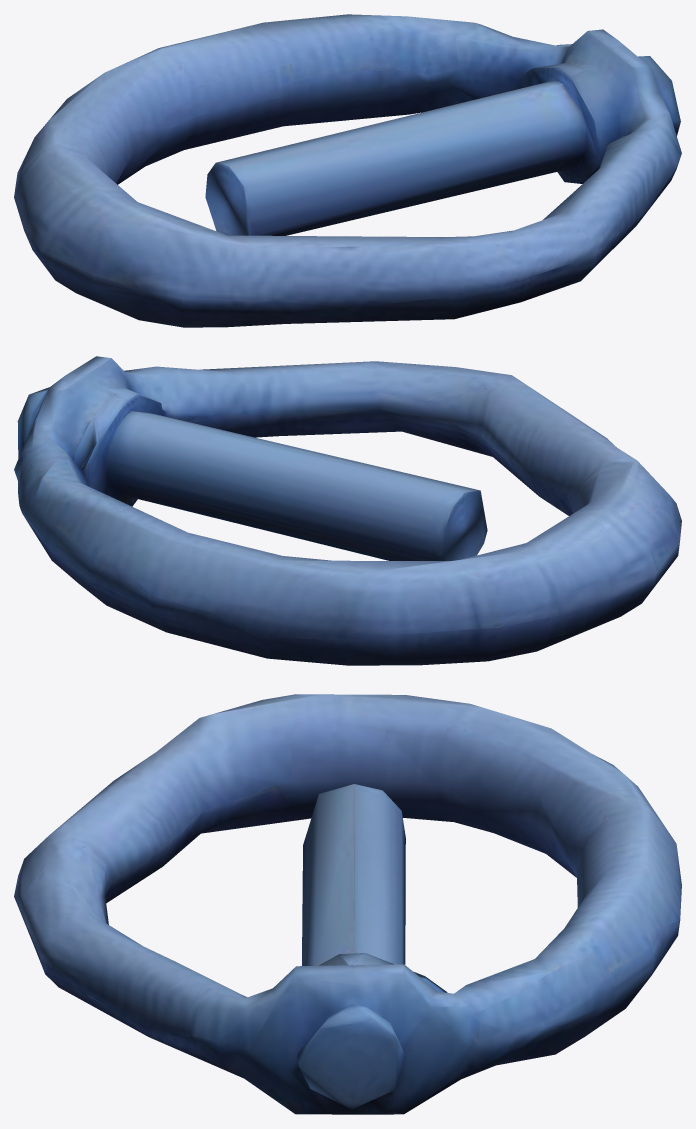
File: cable.glb
3 views of the same model, one above another, from view 1: azimuth 30°, elevation 25°; view 2: azimuth 150°, elevation 25°; view 3: azimuth 270°, elevation 25° (orthographic). The views are drawn at different scales.
Parts seen in each view (by area): view 1: cable; view 2: cable; view 3: cable.
Part boxes in pixels (bbox=[...]): cable: bbox=[14, 14, 681, 327]; cable: bbox=[14, 356, 681, 665]; cable: bbox=[14, 694, 681, 1114].
Bounding box in the file's own units: 0.9986 × 0.2023 × 0.8279.
1 material, 1 textured.
